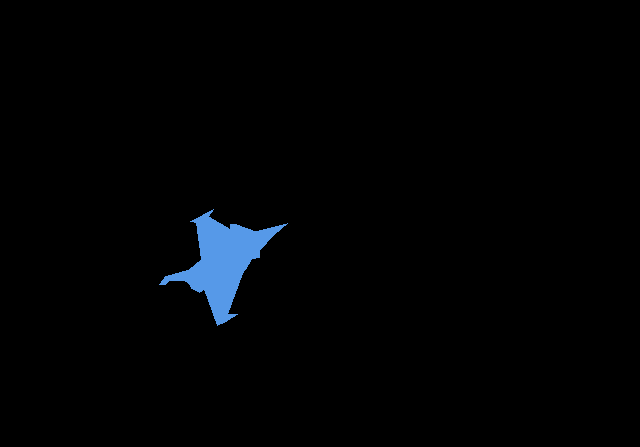Airplane: (159, 209, 287, 325)
